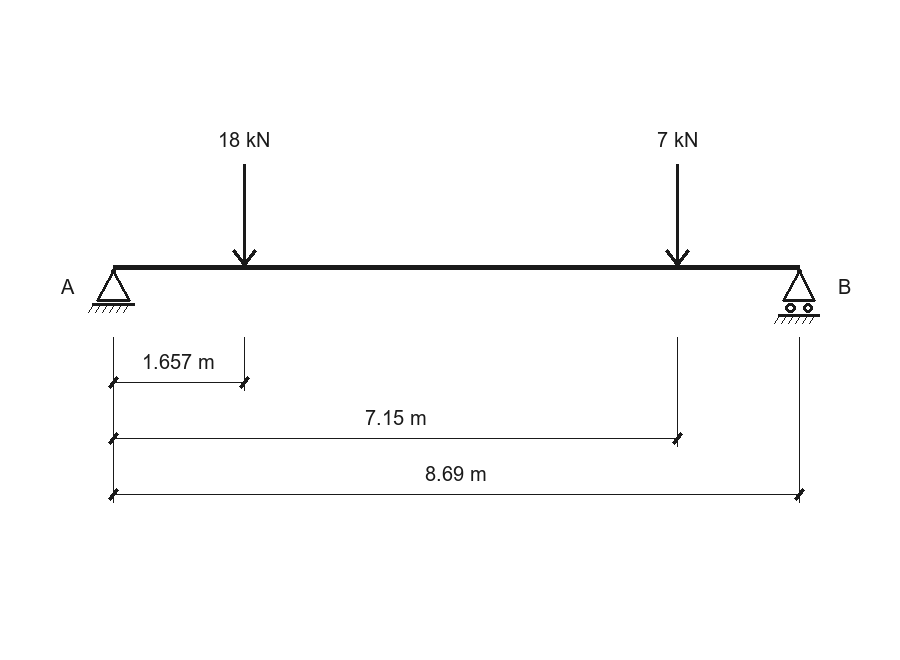pin_support: (88, 269, 135, 313)
point_load: (232, 164, 257, 266), (665, 164, 690, 266)
roller_support: (774, 269, 820, 324)
